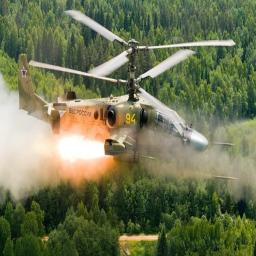helicopter: (15, 7, 235, 182)
